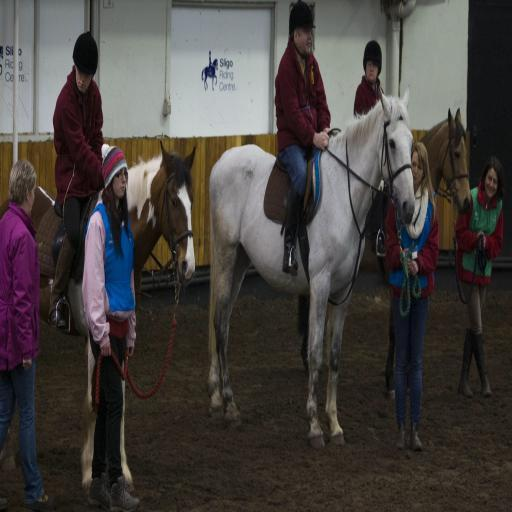horse: (207, 81, 417, 452), (0, 139, 199, 503), (296, 108, 470, 400), (199, 57, 218, 93)
